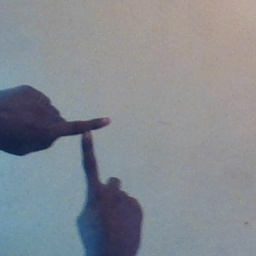T: (29, 83, 136, 210)
